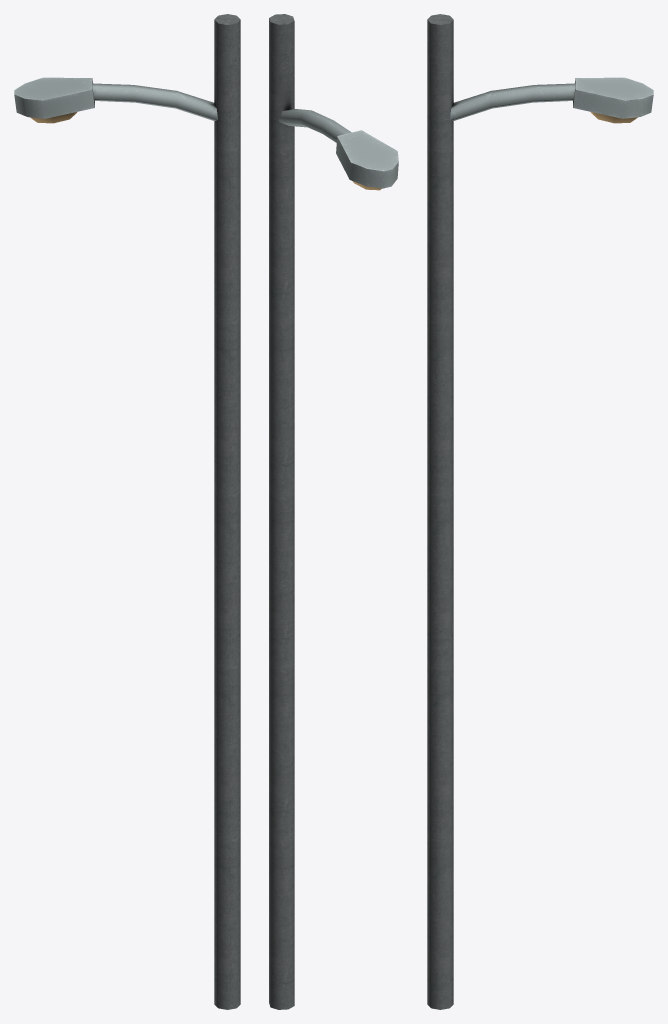
File: Poste de luz.FBX
3 renders of one model, left to right at view 1: azimuth 90°, elevation 25°; view 2: azimuth 210°, elevation 25°; view 3: azimuth 270°, elevation 25°, orthographic.
Parts seen in each view (by area): view 1: Poste_d_luz, Base_luz, Soporte_luz; view 2: Poste_d_luz, Base_luz, Soporte_luz; view 3: Poste_d_luz, Base_luz, Soporte_luz.
Boxes of the visible parts, left/top/right/bottom form: Poste_d_luz: left=214, top=14, right=240, bottom=1009; Base_luz: left=14, top=77, right=94, bottom=118; Soporte_luz: left=92, top=83, right=217, bottom=120; Poste_d_luz: left=269, top=14, right=294, bottom=1009; Base_luz: left=336, top=130, right=398, bottom=188; Soporte_luz: left=279, top=108, right=351, bottom=142; Poste_d_luz: left=427, top=14, right=453, bottom=1009; Base_luz: left=573, top=77, right=653, bottom=118; Soporte_luz: left=450, top=83, right=575, bottom=120.
Size of the model in its own units: 0.548 by 11 by 2.29.
1 material, 1 textured.
